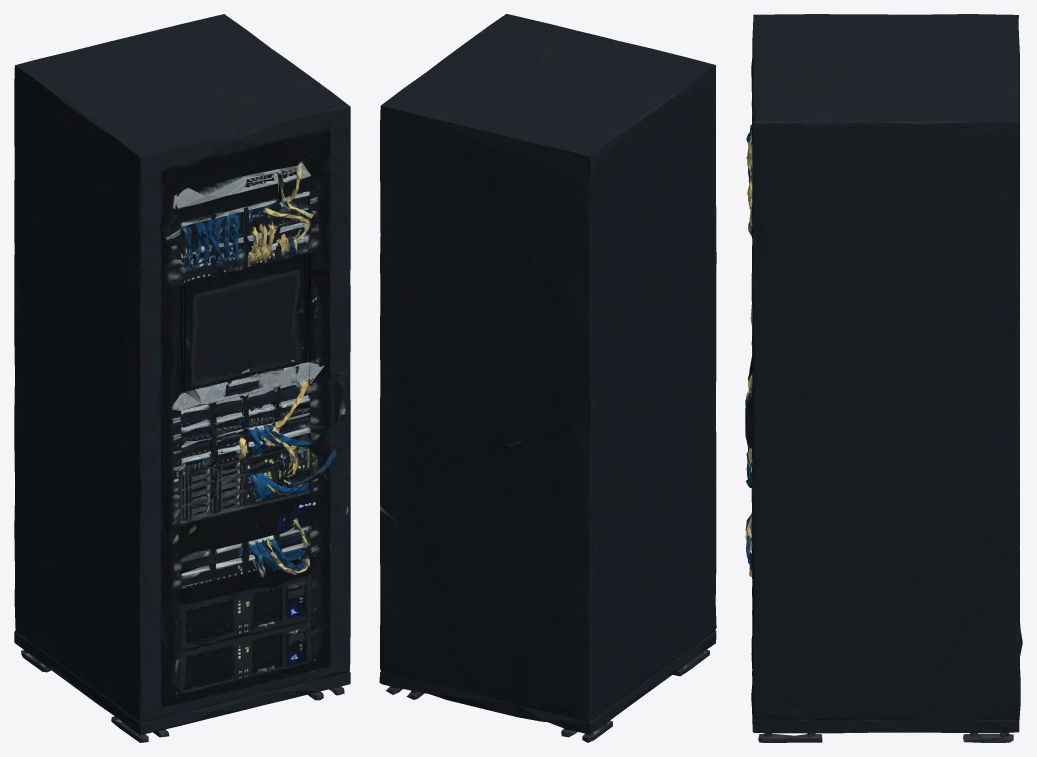
The model's file is rack_servidores.glb.
3 renders of one model, left to right at view 1: azimuth 30°, elevation 25°; view 2: azimuth 150°, elevation 25°; view 3: azimuth 270°, elevation 25°, orthographic. The views are drawn at different scales.
Visible parts, largest first — view 1: d.obj; view 2: d.obj; view 3: d.obj.
Part boxes in pixels (<box>): d.obj: <box>14,14,350,742</box>; d.obj: <box>379,14,716,742</box>; d.obj: <box>745,14,1022,742</box>.
Size of the model in its own units: 0.7153 by 1.91 by 0.7688.
1 material, 1 textured.
